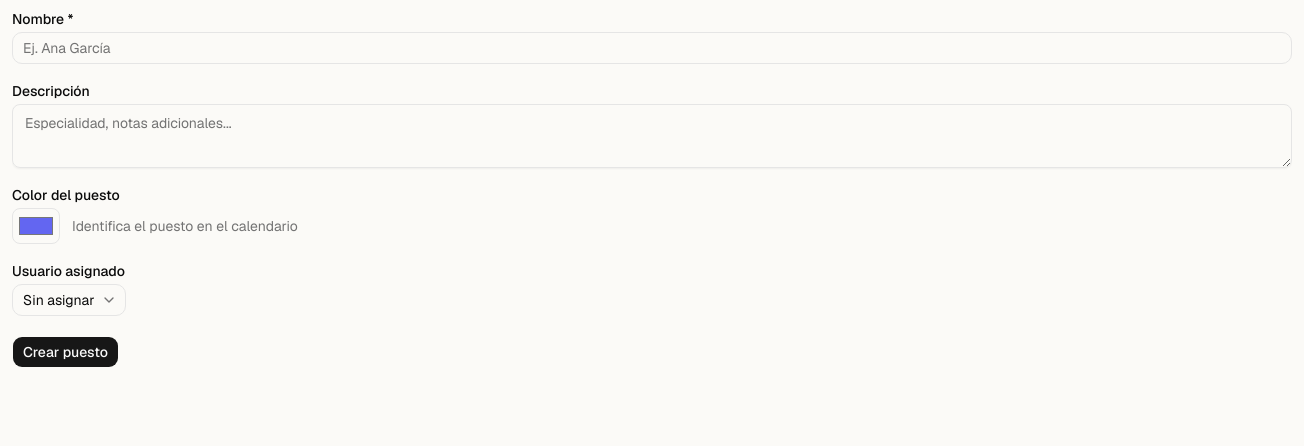
Scenario: CreateChairForm — error del servidor › muestra error genérico cuando el servidor falla sin body.error
In the field labelled "Nombre *": (652, 48) x1=12 y1=32 x2=1292 y2=64, type "Silla A"
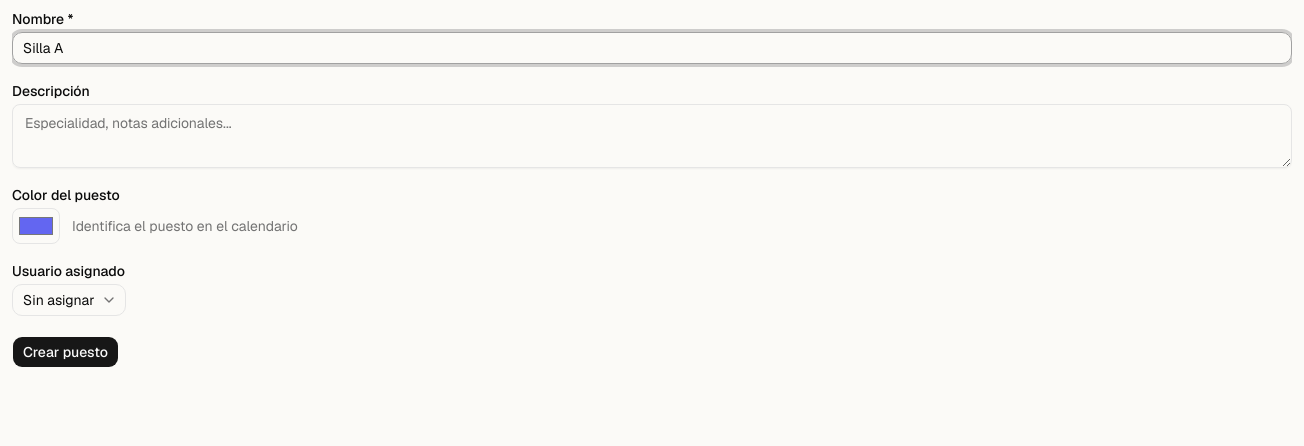
Click the button "Crear puesto": (65, 352) x1=12 y1=336 x2=119 y2=368
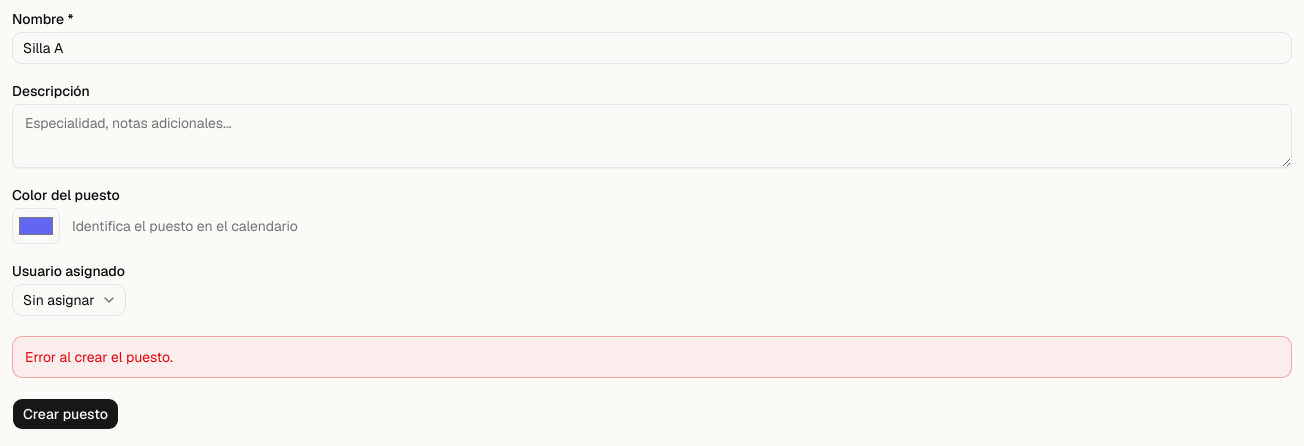
Result: the text "Error al crear el puesto." is shown at x1=25 y1=348 x2=173 y2=366
